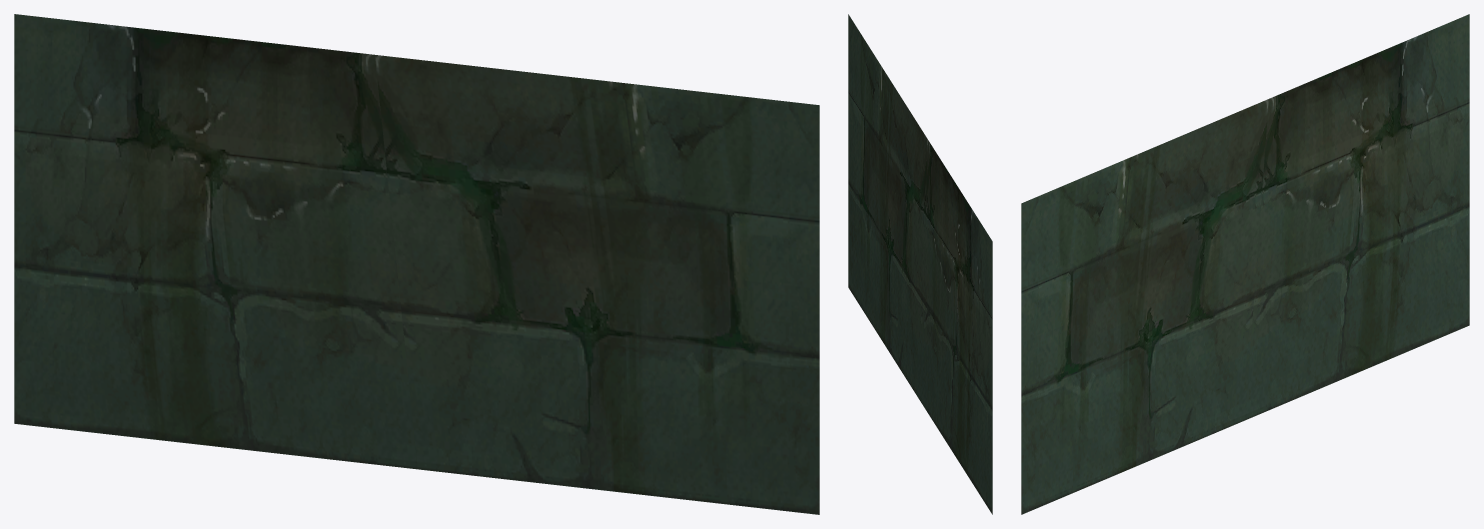
File: stemple_half_diagonal_05.fbx
3 renders of one model, left to right at view 1: azimuth 30°, elevation 25°; view 2: azimuth 150°, elevation 25°; view 3: azimuth 270°, elevation 25°, orthographic. The views are drawn at different scales.
Parts seen in each view (by area): view 1: sunken_tileset/sunken_wall_straight07_mat; view 2: sunken_tileset/sunken_wall_straight07_mat; view 3: sunken_tileset/sunken_wall_straight07_mat.
Boxes of the visible parts, x1=… form: sunken_tileset/sunken_wall_straight07_mat: x1=14, y1=14, x2=819, y2=514; sunken_tileset/sunken_wall_straight07_mat: x1=848, y1=14, x2=992, y2=514; sunken_tileset/sunken_wall_straight07_mat: x1=1021, y1=14, x2=1469, y2=514.
Size of the model in its own units: 3.59 by 2.75 by 3.59.
